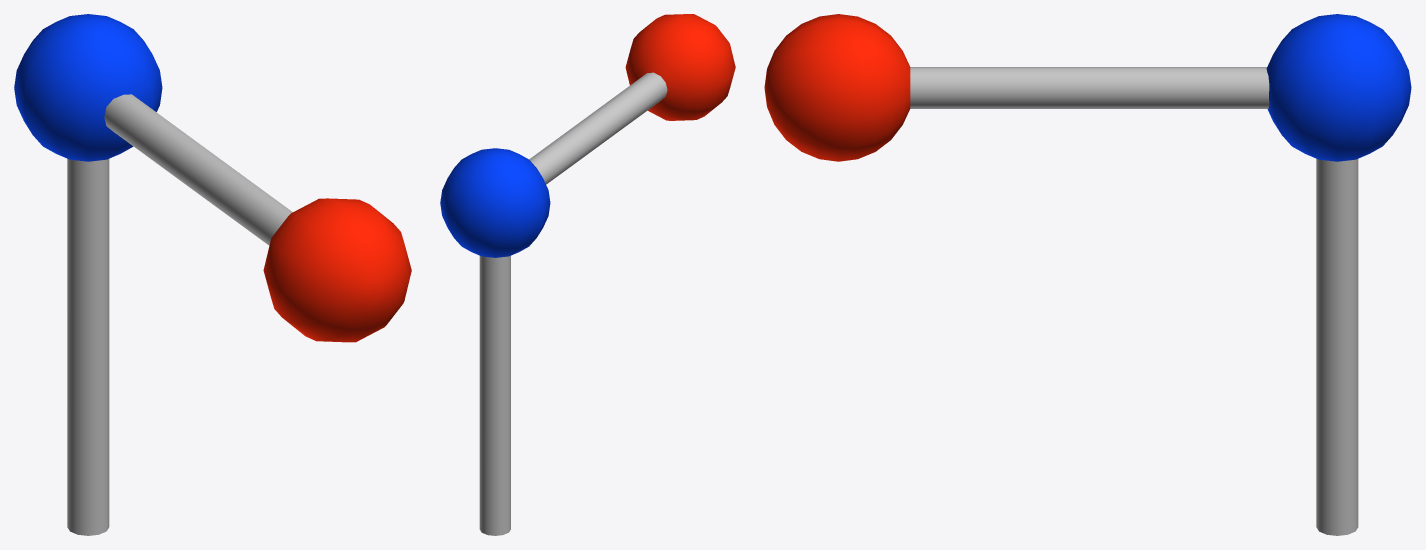
File: Checkpoint.fbx
The picture shows the model from 3 angles, left to right: view 1: azimuth 30°, elevation 25°; view 2: azimuth 150°, elevation 25°; view 3: azimuth 270°, elevation 25°; orthographic projection. The views are drawn at different scales.
Visible parts, largest first — view 1: pSphere2, pSphere1; view 2: pSphere2, pSphere1; view 3: pSphere2, pSphere1.
Part boxes in pixels (x1,y1,x2,y2): pSphere2: (14,14,162,535); pSphere1: (104,94,411,342); pSphere2: (440,148,550,535); pSphere1: (529,14,735,184); pSphere2: (1266,14,1411,535); pSphere1: (764,14,1269,161).
Bounding box in the file's own units: 0.0618 × 0.2328 × 0.2696.
